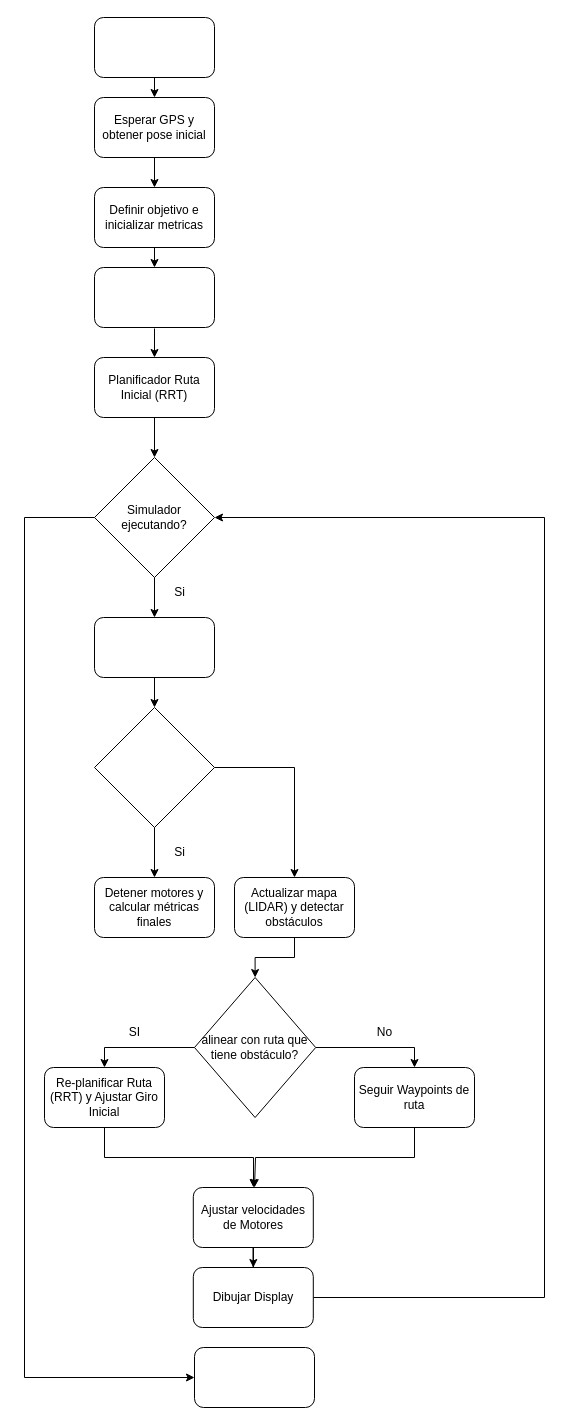
Image size: 570x1425. Some labels were removed from this diagram. The shapes that lost their labels are listed below. From the top down, each one's centre as x and y in pixels, then its label:
[154,47]: Inicializar Robot y sensores
[154,297]: Definir Objetivo e Inicializar Métricas
[154,647]: Obtener Pose y Yaw del Robot
[154,767]: Robot llegó a la meta?
[254,1377]: Fin del Simulador
